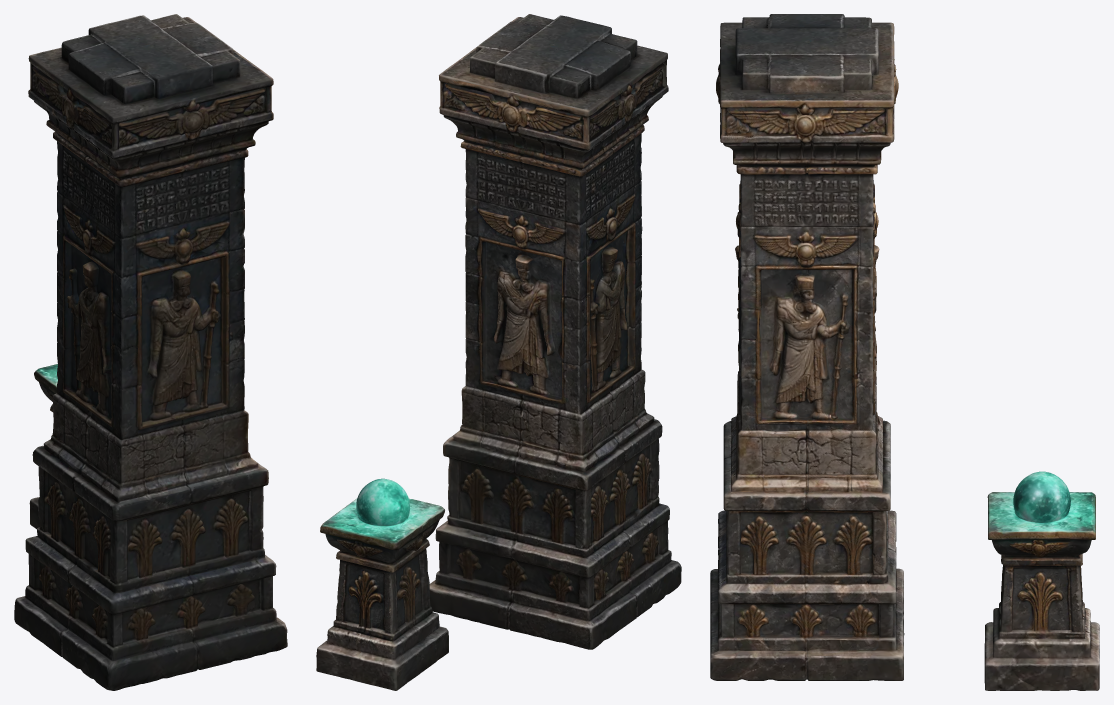
File: اصول المرسى.glb
3 views of the same model, side by side, from view 1: azimuth 30°, elevation 25°; view 2: azimuth 150°, elevation 25°; view 3: azimuth 270°, elevation 25° (orthographic). The views are drawn at different scales.
Parts seen in each view (by area): view 1: tripo_node_ede1cd18-7ad1-4858-90f9-8b8a291c25d7; view 2: tripo_node_ede1cd18-7ad1-4858-90f9-8b8a291c25d7; view 3: tripo_node_ede1cd18-7ad1-4858-90f9-8b8a291c25d7.
Boxes of the visible parts, box(x1,y1,x2,y2) form: tripo_node_ede1cd18-7ad1-4858-90f9-8b8a291c25d7: box(14, 14, 287, 690); tripo_node_ede1cd18-7ad1-4858-90f9-8b8a291c25d7: box(316, 14, 681, 690); tripo_node_ede1cd18-7ad1-4858-90f9-8b8a291c25d7: box(710, 14, 1099, 690).
Size of the model in its own units: 0.3534 by 1 by 0.592.
Materials: 1 (1 with a texture image).
